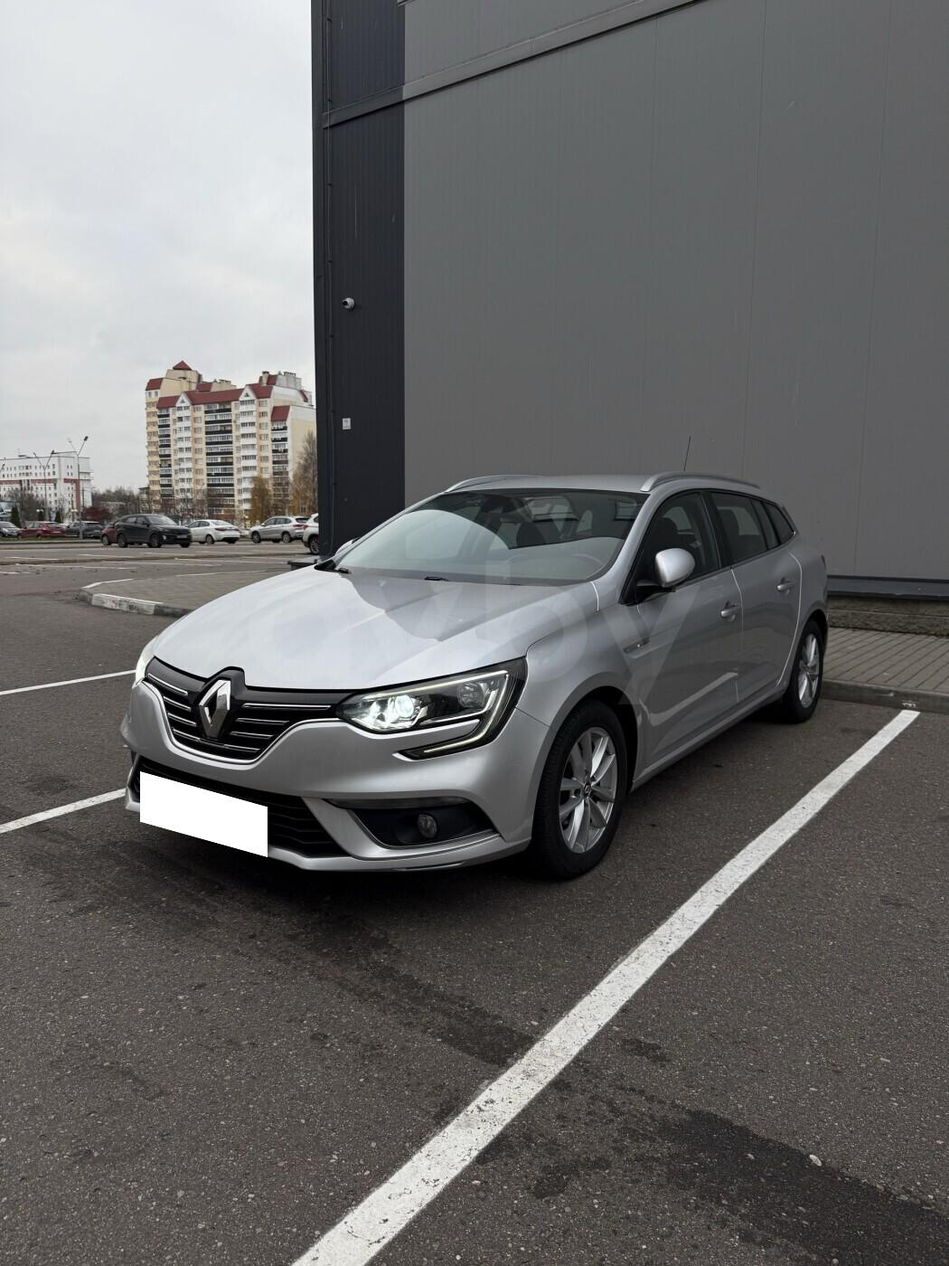Megane_2016-2020: (67, 472, 837, 901)
